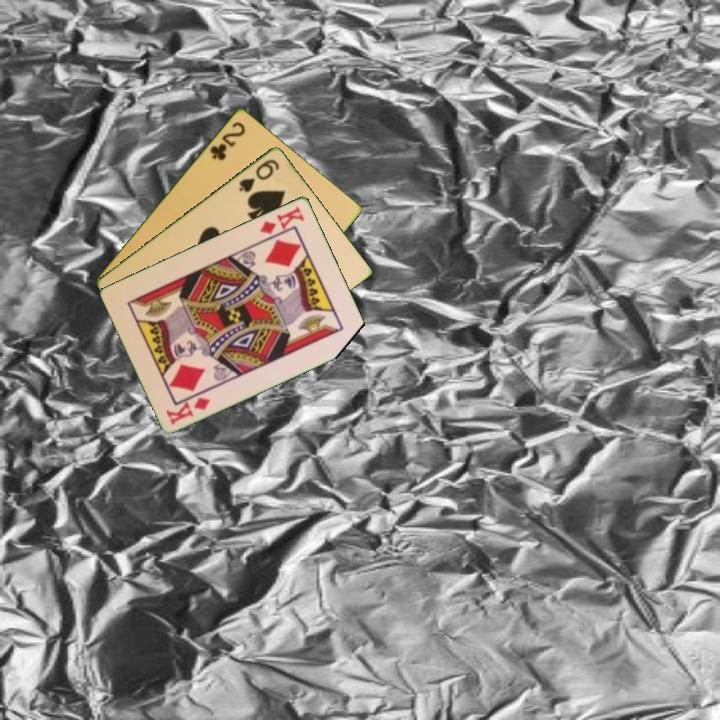2c: (206, 118, 248, 163)
6s: (235, 155, 282, 195)
Kd: (256, 202, 307, 243), (163, 393, 213, 428)
